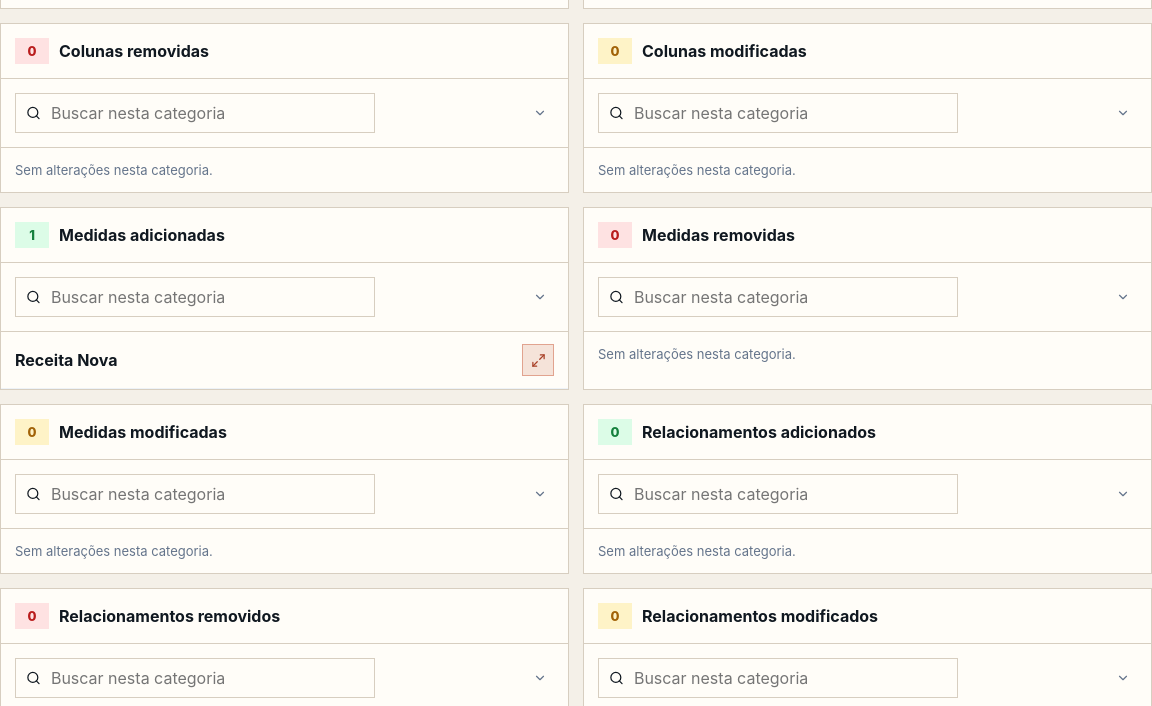
CompareView › permite fechar e reabrir a expansao da medida adicionada
(page scrolled)
Expected: the list item "Receita Nova" is shown, [1,332,568,389]
Click the button named "expandir detalhe" at (538, 360), box [522,344,554,376]
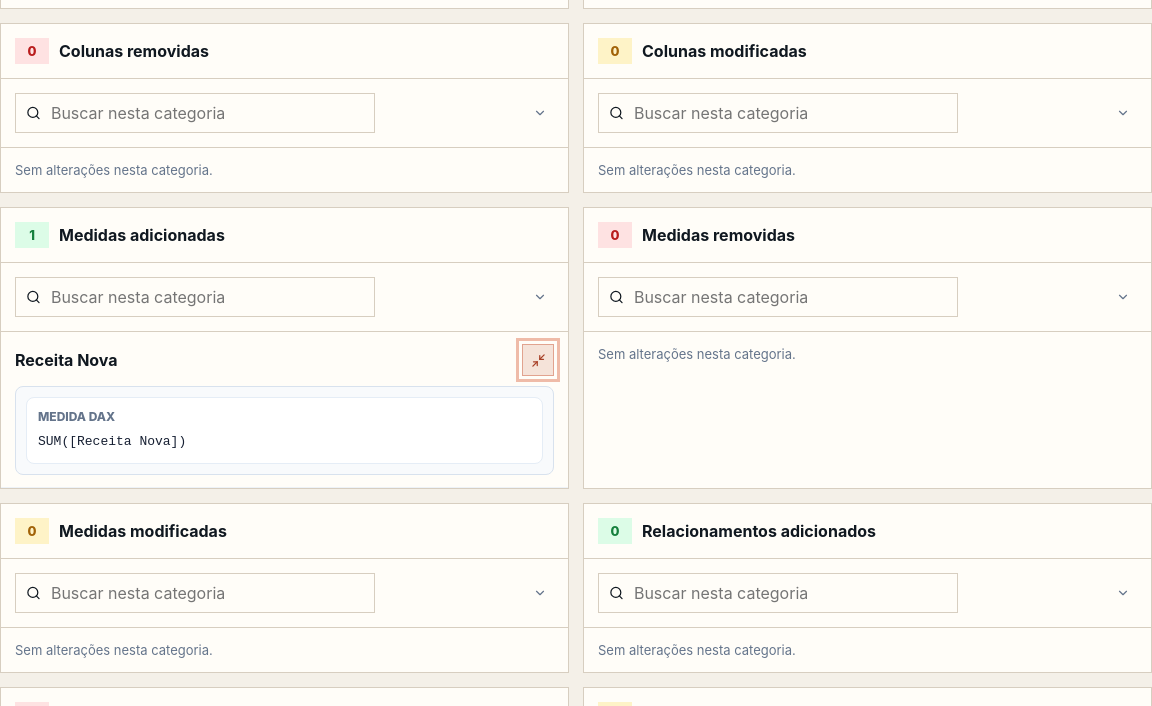
Now the text "SUM([Receita Nova])" is shown, box [38,434,186,449]
Click the button named "recolher detalhe" at (538, 360), box [522,344,554,376]
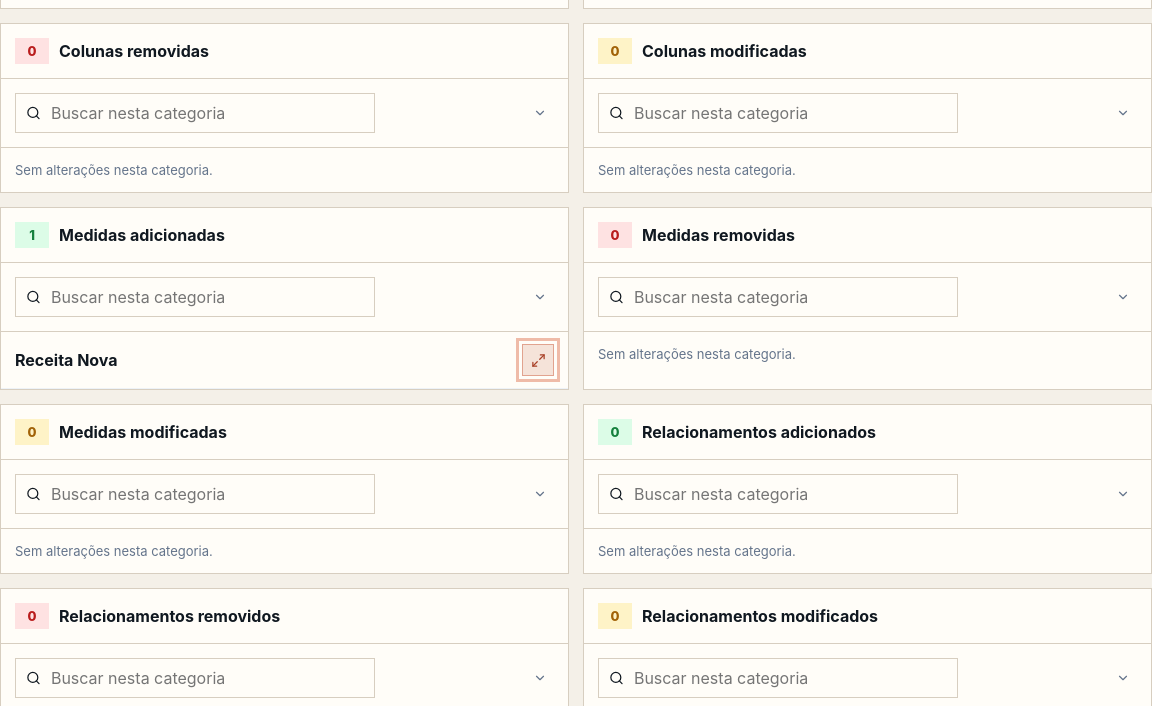
Now the text "SUM([Receita Nova])" is gone
Click the button named "expandir detalhe" at (538, 360), box [522,344,554,376]
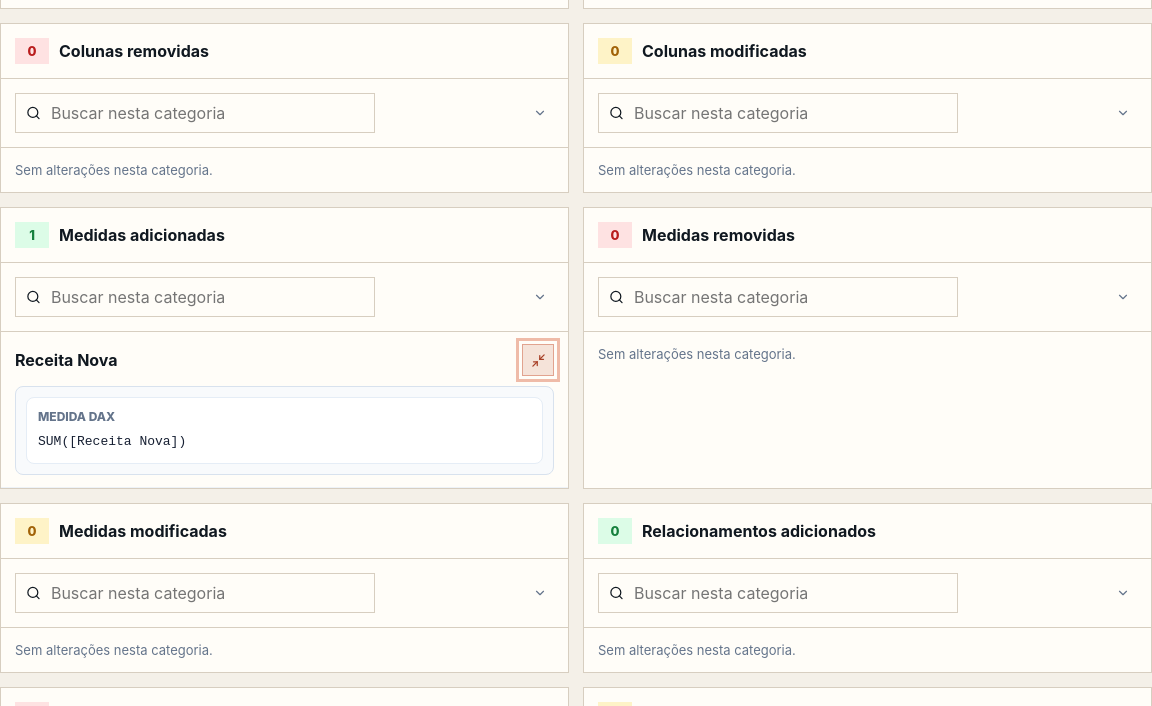
Now the text "SUM([Receita Nova])" is shown, box [38,434,186,449]
